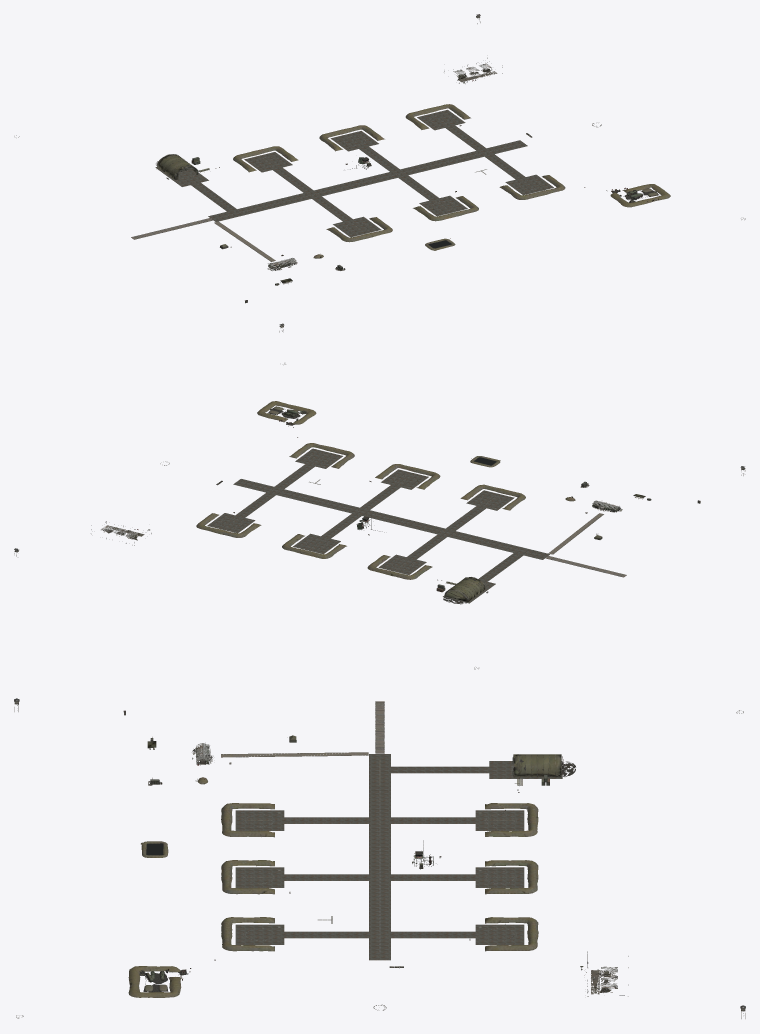
The model's file is site_heli_lo.glb.
3 renders of one model, top to bottom at view 1: azimuth 30°, elevation 25°; view 2: azimuth 150°, elevation 25°; view 3: azimuth 270°, elevation 25°, orthographic. The views are drawn at different scales.
Visible parts, largest first — view 1: deco_pads|tile_pads, deco_extra|H_A, deco_pads|H_A, b_hangar|H_A, b_fuel_ruin|H_B; view 2: deco_pads|tile_pads, deco_extra|H_A, deco_pads|H_A, b_hangar|H_A, b_fuel_ruin|H_B; view 3: deco_pads|tile_pads, deco_extra|H_A, deco_pads|H_A, b_hangar|H_A, b_fuel_ruin|H_B, b_fuel|H_A.
Boxes of the visible parts, <box> form: deco_pads|tile_pads: <box>155,109,553,237</box>; deco_extra|H_A: <box>14,14,745,332</box>; deco_pads|H_A: <box>131,115,540,261</box>; b_hangar|H_A: <box>157,154,199,179</box>; b_fuel_ruin|H_B: <box>606,184,670,207</box>; deco_pads|tile_pads: <box>207,448,550,603</box>; deco_extra|H_A: <box>14,363,745,669</box>; deco_pads|H_A: <box>221,453,626,577</box>; b_hangar|H_A: <box>444,577,485,602</box>; b_fuel_ruin|H_B: <box>258,401,316,427</box>; deco_pads|tile_pads: <box>235,754,562,960</box>; deco_extra|H_A: <box>14,698,745,1018</box>; deco_pads|H_A: <box>221,701,516,953</box>; b_hangar|H_A: <box>512,754,561,777</box>; b_fuel_ruin|H_B: <box>128,966,191,997</box>; b_fuel|H_A: <box>128,966,186,997</box>.
Bounding box in the file's own units: 502 × 19.57 × 488.
20 materials, 15 textured.
